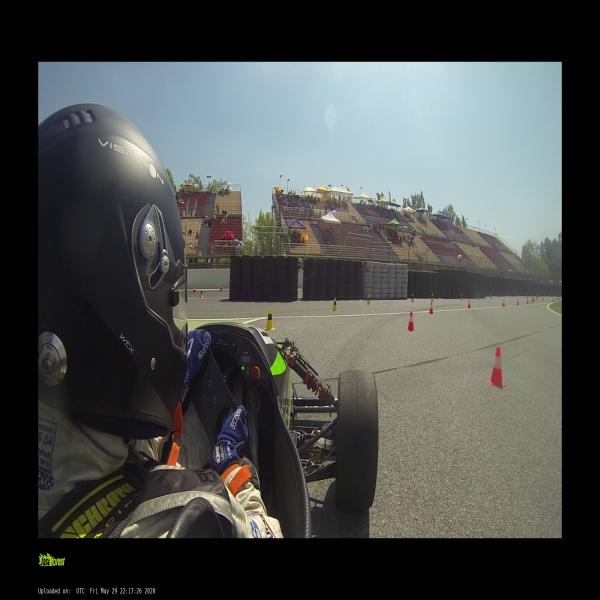orange_cone: (486, 347, 506, 387), (407, 311, 414, 331), (429, 302, 433, 314), (468, 299, 471, 309), (502, 300, 505, 308), (220, 284, 223, 292), (194, 285, 196, 293), (516, 299, 518, 305), (526, 298, 528, 304)
yellow_cone: (266, 308, 275, 330), (332, 297, 338, 312), (366, 295, 371, 305), (200, 289, 204, 298), (411, 293, 414, 303), (431, 293, 434, 302), (460, 294, 463, 301), (477, 294, 480, 301), (499, 293, 501, 298), (526, 293, 528, 297), (491, 293, 492, 299), (505, 293, 506, 297), (508, 292, 509, 296), (516, 293, 517, 297)
